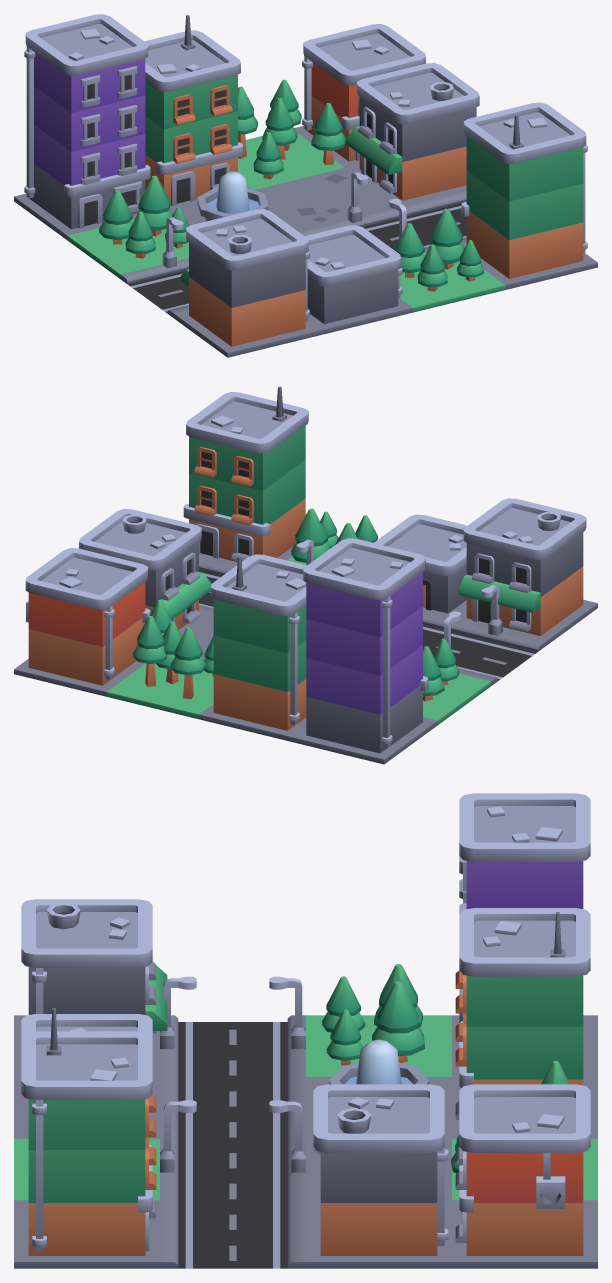
The model's file is quartier.glb.
3 renders of one model, top to bottom at view 1: azimuth 30°, elevation 25°; view 2: azimuth 150°, elevation 25°; view 3: azimuth 270°, elevation 25°, orthographic. The views are drawn at different scales.
Parts seen in each view (by area): view 1: building-small-b (×2), building-small-d (×2), building-small-c, grass-trees (×2), building-garage, building-small-a, grass-trees-tall, road-straight-lightposts (×2), pavement, pavement-fountain, road-straight; view 2: building-small-b (×2), building-small-c, building-small-d (×2), building-small-a, grass-trees-tall, grass-trees (×2), building-garage, road-straight-lightposts, road-straight (×2), pavement; view 3: building-small-b (×2), building-small-d (×2), building-small-a, road-straight-lightposts (×2), road-straight (×2), building-small-c, grass-trees (×2), pavement-fountain, building-garage, grass-trees-tall, pavement.
Part boxes in pixels (x1,y1,x2,y2): building-small-b (×2): [144, 15, 597, 289]; building-small-d (×2): [174, 63, 479, 357]; building-small-c: [14, 14, 150, 239]; grass-trees (×2): [67, 175, 505, 312]; building-garage: [305, 225, 412, 334]; building-small-a: [294, 24, 425, 167]; grass-trees-tall: [238, 79, 345, 189]; road-straight-lightposts (×2): [121, 172, 431, 318]; pavement: [254, 168, 391, 229]; pavement-fountain: [171, 171, 305, 231]; road-straight: [404, 190, 466, 243]; building-small-b (×2): [183, 386, 308, 741]; building-small-c: [291, 538, 437, 764]; building-small-d (×2): [79, 498, 597, 646]; building-small-a: [14, 548, 150, 696]; grass-trees-tall: [106, 600, 213, 719]; grass-trees (×2): [287, 508, 490, 724]; building-garage: [374, 514, 467, 618]; road-straight-lightposts: [423, 584, 544, 685]; road-straight (×2): [199, 558, 445, 645]; pavement: [192, 614, 213, 660]; building-small-b (×2): [14, 908, 597, 1268]; building-small-d (×2): [14, 899, 451, 1268]; building-small-a: [452, 1084, 597, 1268]; road-straight-lightposts (×2): [160, 976, 305, 1206]; road-straight (×2): [160, 1077, 305, 1268]; building-small-c: [452, 793, 597, 1076]; grass-trees (×2): [14, 964, 451, 1200]; pavement-fountain: [306, 1039, 451, 1138]; building-garage: [14, 1014, 159, 1138]; grass-trees-tall: [451, 1061, 597, 1200]; pavement: [306, 1138, 451, 1200].
Bounding box in the file's own units: 4 × 1.75 × 4.
1 material, 1 textured.
